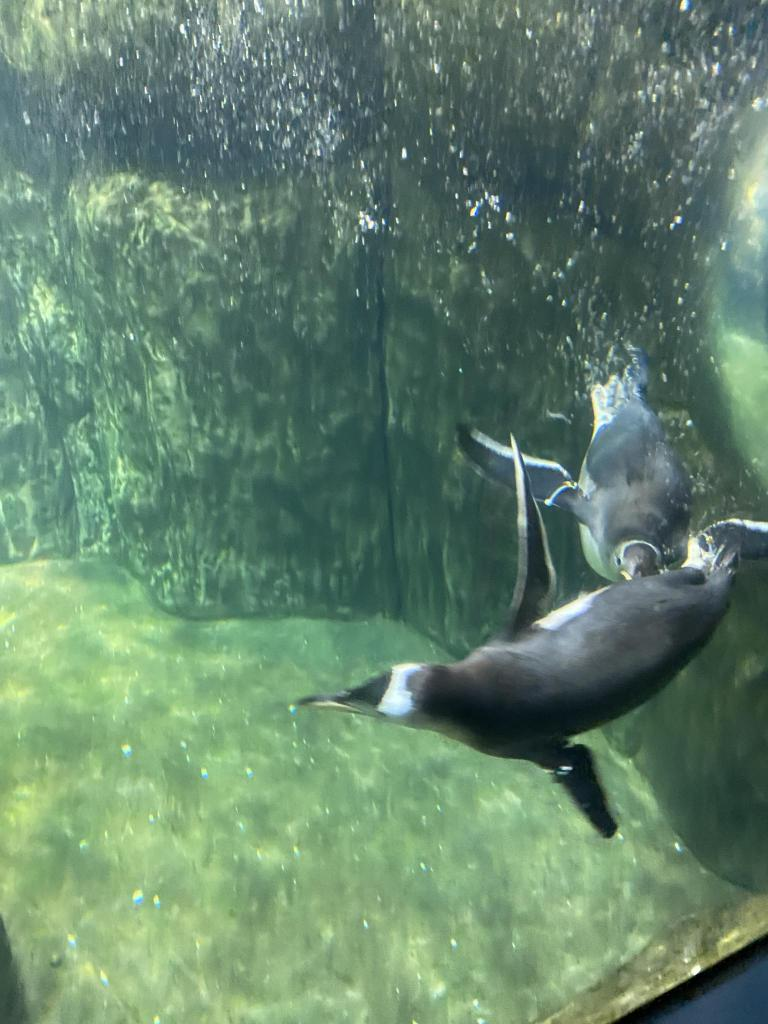penguin: (297, 430, 767, 840), (458, 348, 700, 588)
